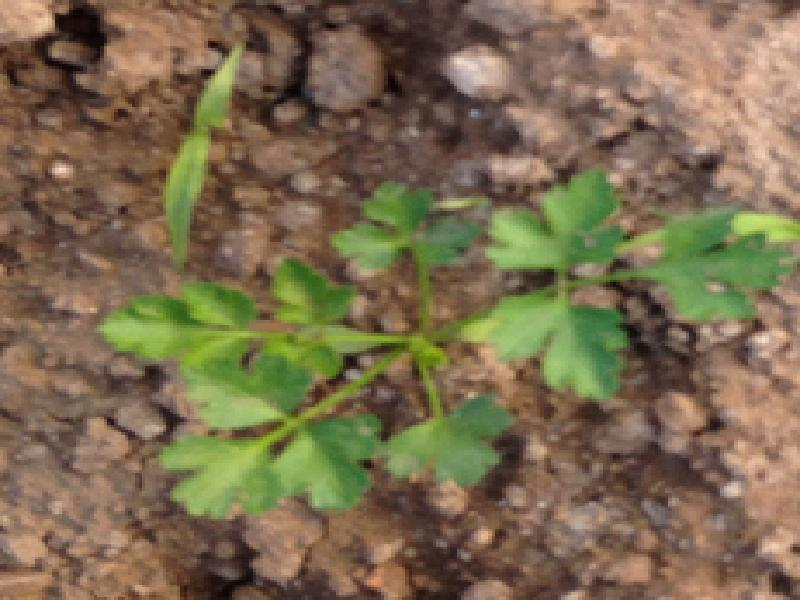radish: (95, 168, 793, 518)
